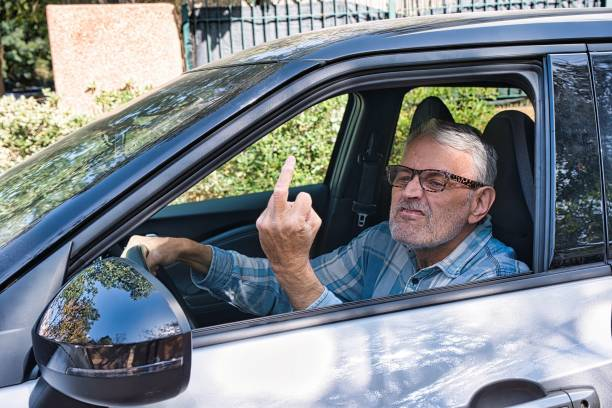insulting_gesture: (253, 154, 323, 274)
